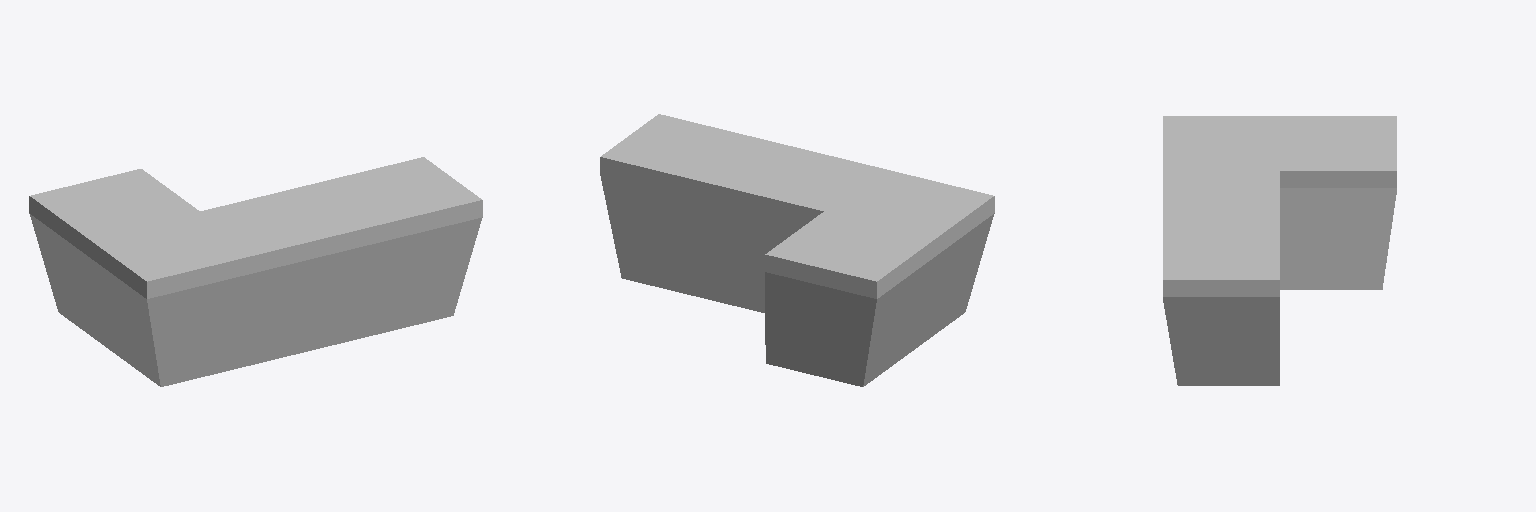
File: cashiertable.obj
3 views of the same model, side by side, from view 1: azimuth 30°, elevation 25°; view 2: azimuth 150°, elevation 25°; view 3: azimuth 270°, elevation 25° (orthographic).
Visible parts, largest first — view 1: pCube6; view 2: pCube6; view 3: pCube6.
Boxes of the visible parts, <box> form: pCube6: <box>29,157,482,386</box>; pCube6: <box>600,114,994,386</box>; pCube6: <box>1163,116,1396,385</box>.
Size of the model in its own units: 8.8 by 2.92 by 5.33.